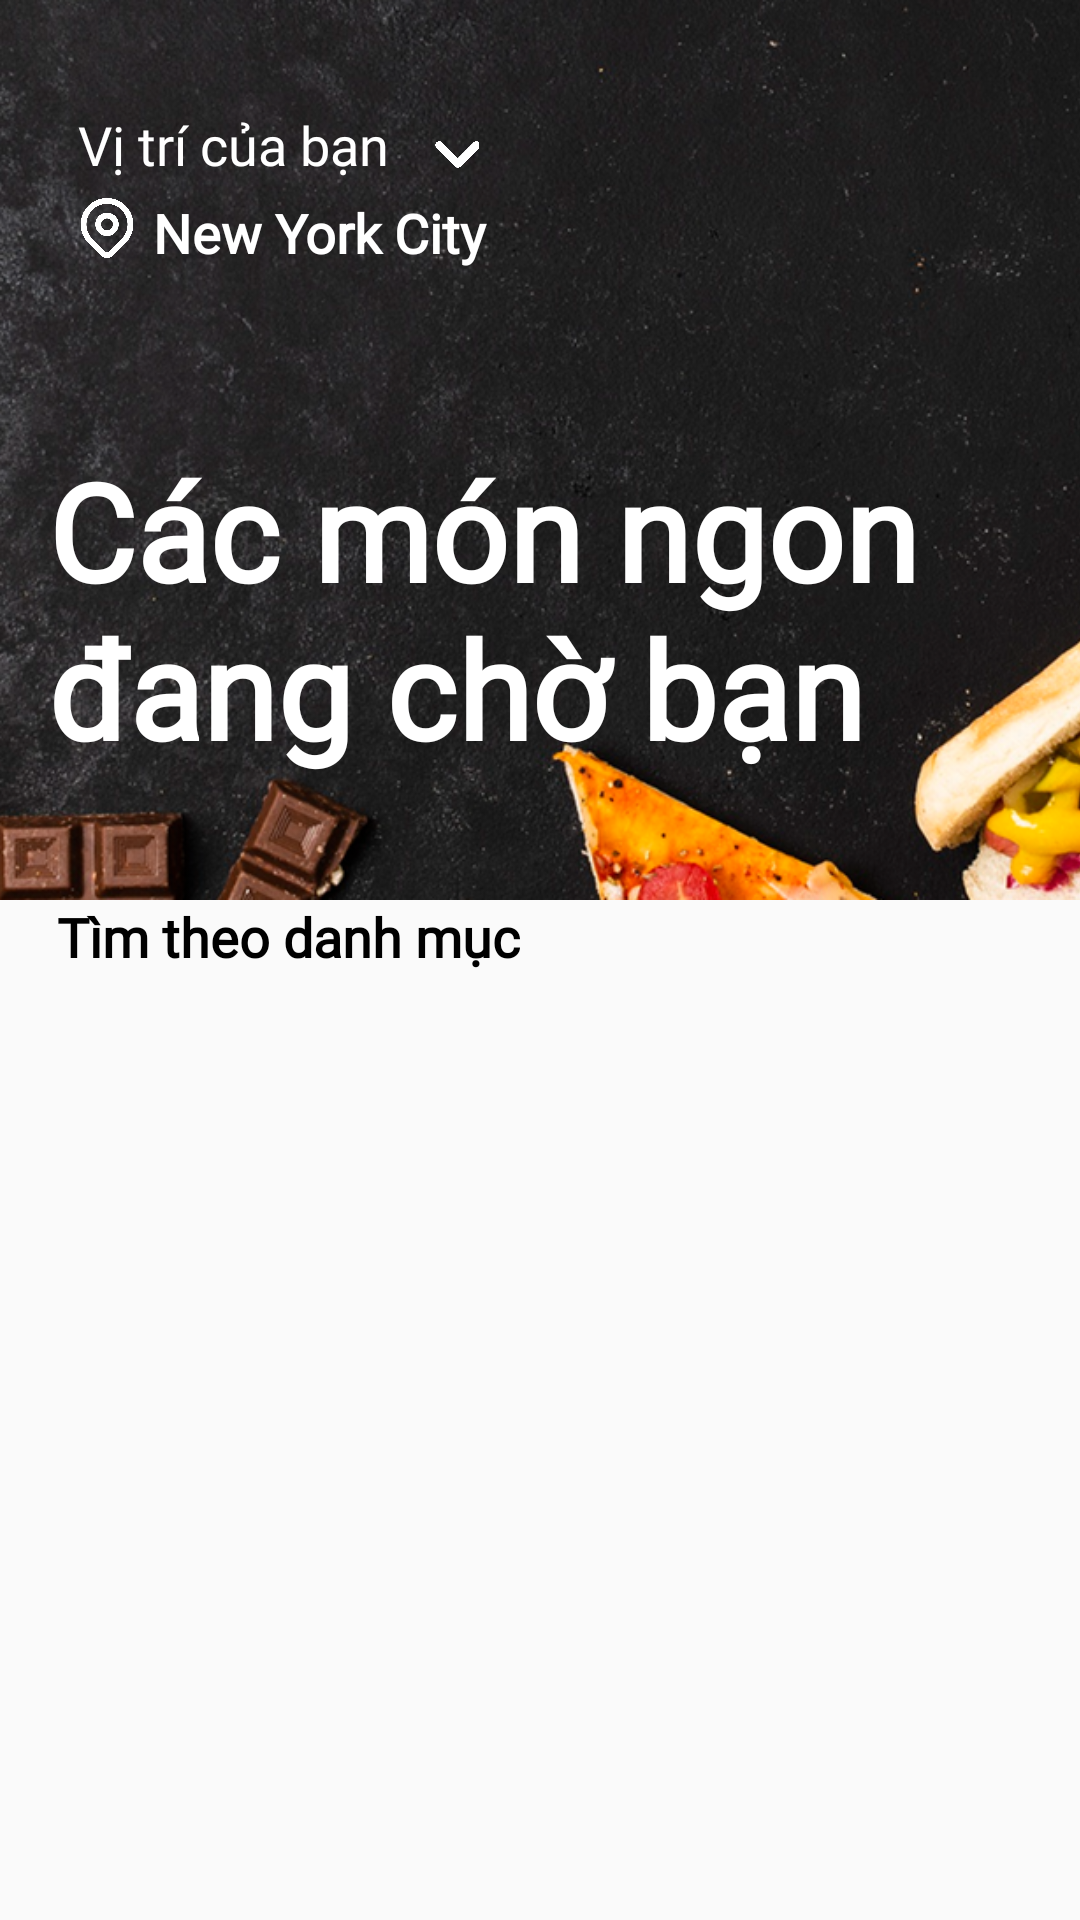

Screen size 1080 × 1920. Icon name, then its center in pixels as (x,y):
location: (106,228)
under: (457,154)
